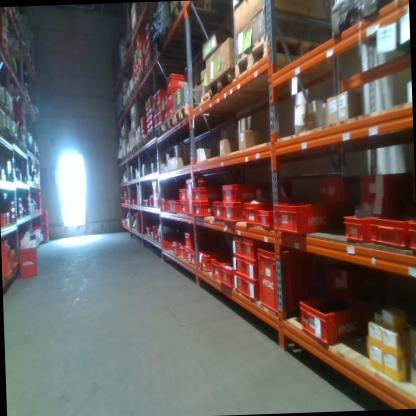pallet: (232, 30, 333, 79), (169, 0, 235, 32), (208, 65, 238, 102), (173, 102, 197, 127), (143, 52, 158, 75), (163, 113, 175, 132), (147, 126, 156, 144), (139, 64, 146, 87), (131, 112, 145, 123), (155, 122, 164, 138), (134, 75, 140, 93), (142, 132, 147, 148), (131, 129, 138, 138), (137, 139, 141, 153), (133, 144, 137, 156)
small_load_carrier: (255, 244, 312, 317), (297, 285, 357, 352), (325, 257, 379, 331), (271, 196, 331, 236), (367, 213, 407, 253), (315, 171, 358, 201), (340, 209, 373, 247), (359, 169, 399, 197), (221, 180, 262, 205), (243, 197, 272, 229), (186, 176, 206, 216), (16, 247, 39, 281), (362, 199, 406, 216), (218, 256, 239, 289), (223, 203, 253, 224), (207, 249, 225, 282), (191, 183, 220, 202), (183, 228, 212, 247), (164, 69, 189, 90), (197, 248, 215, 277), (1, 240, 14, 280), (242, 239, 261, 262), (245, 278, 262, 302), (259, 207, 277, 229), (405, 221, 416, 256), (193, 203, 213, 220), (231, 236, 244, 262), (244, 258, 260, 279), (212, 199, 226, 223), (232, 275, 246, 297), (186, 246, 200, 265), (166, 198, 181, 215), (233, 256, 245, 277), (172, 237, 184, 258), (155, 88, 168, 105), (162, 99, 168, 125), (178, 244, 188, 258), (159, 198, 168, 212), (166, 93, 176, 105), (167, 105, 177, 117), (158, 114, 166, 129), (144, 21, 152, 36), (178, 187, 185, 202), (143, 32, 151, 45), (146, 41, 152, 58), (156, 104, 166, 114), (184, 246, 192, 258), (180, 202, 188, 214), (164, 239, 172, 250), (152, 105, 159, 117), (151, 91, 156, 105), (41, 209, 48, 218), (41, 219, 48, 227), (155, 117, 159, 129), (42, 227, 48, 232)
